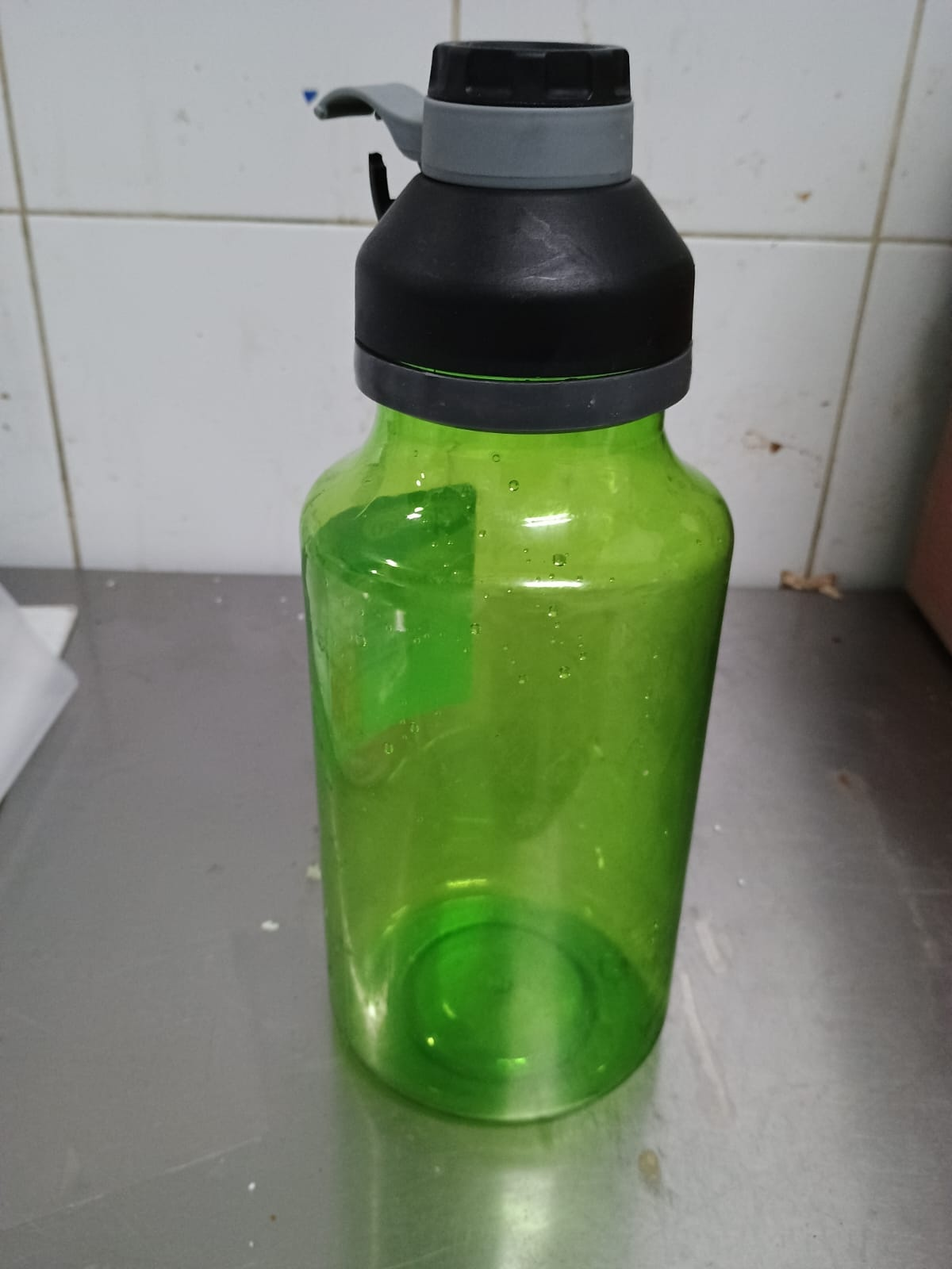Plastico: (297, 41, 735, 1126)
